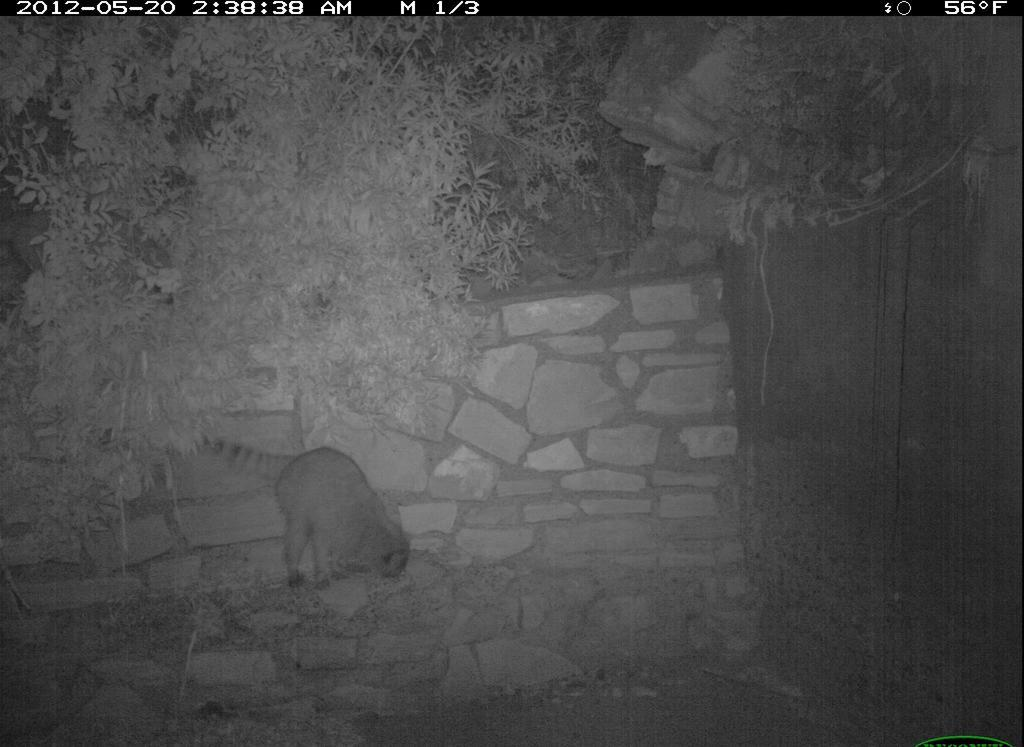raccoon: (180, 397, 432, 601)
